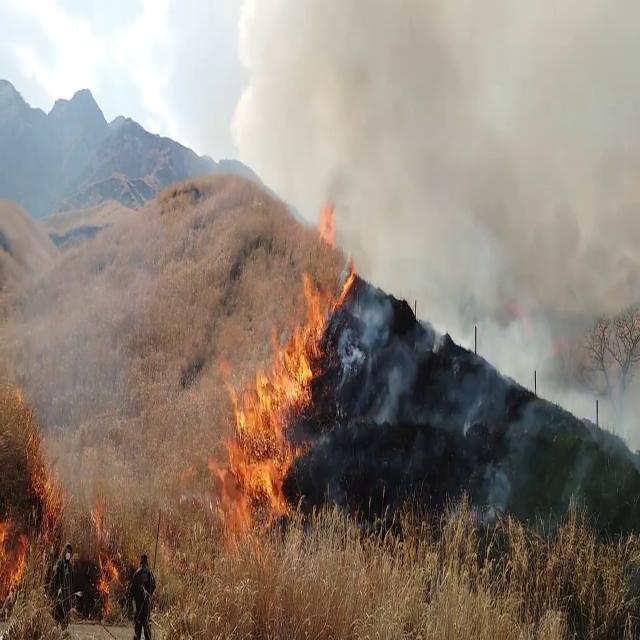Fire: (220, 274, 326, 512), (4, 418, 123, 624), (317, 194, 337, 256)
Smoke: (284, 1, 640, 443)
